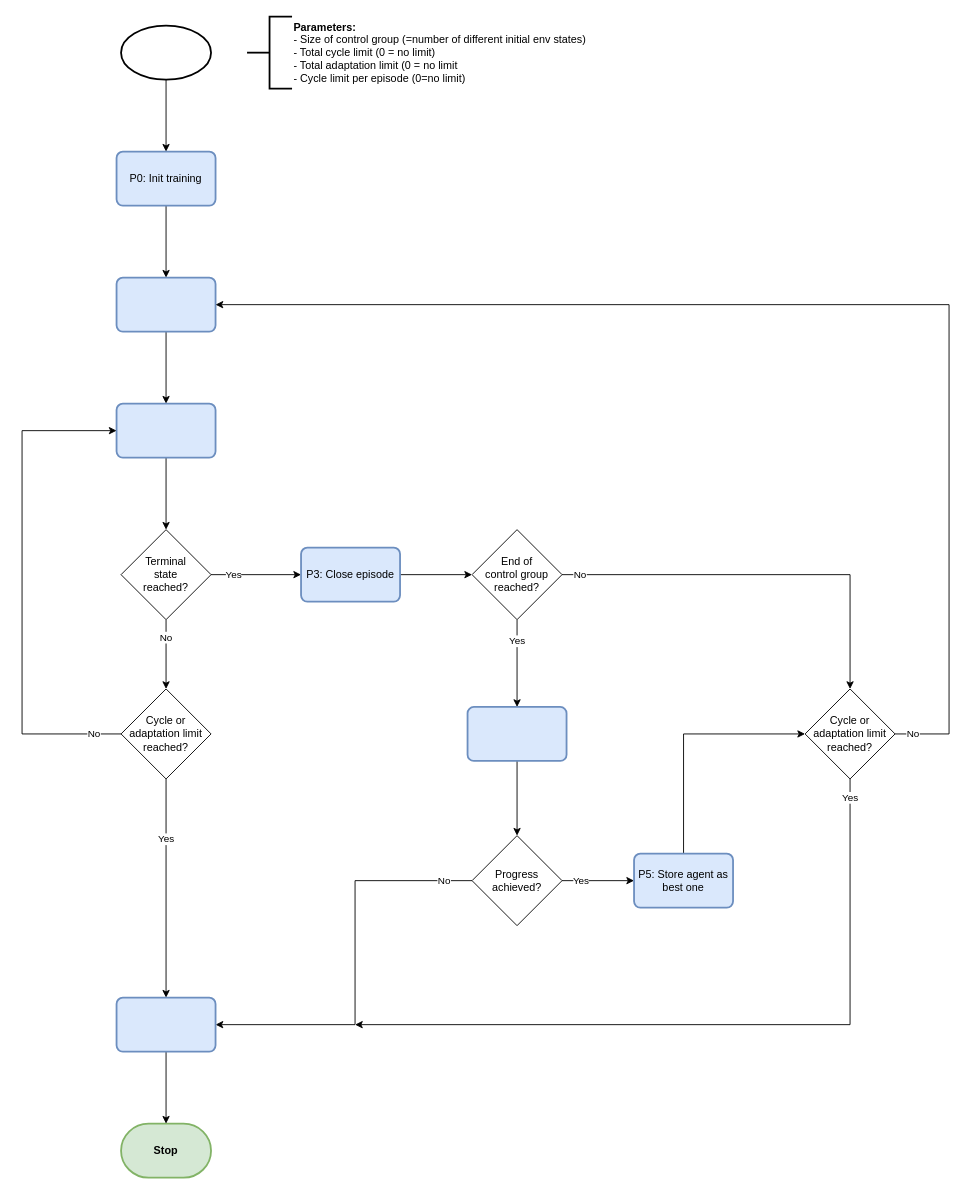
Image size: 972x1193. Some labels were removed from this diagram. The shapes that lost their labels are listed below. From the top down, each one's centre as x and y in pixels, then its label:
(166,52): Start
(165,304): P1: Init next episode
(165,430): P2: Run next cycle
(516,733): P4: Determine training progress
(165,1024): P6: Close training
